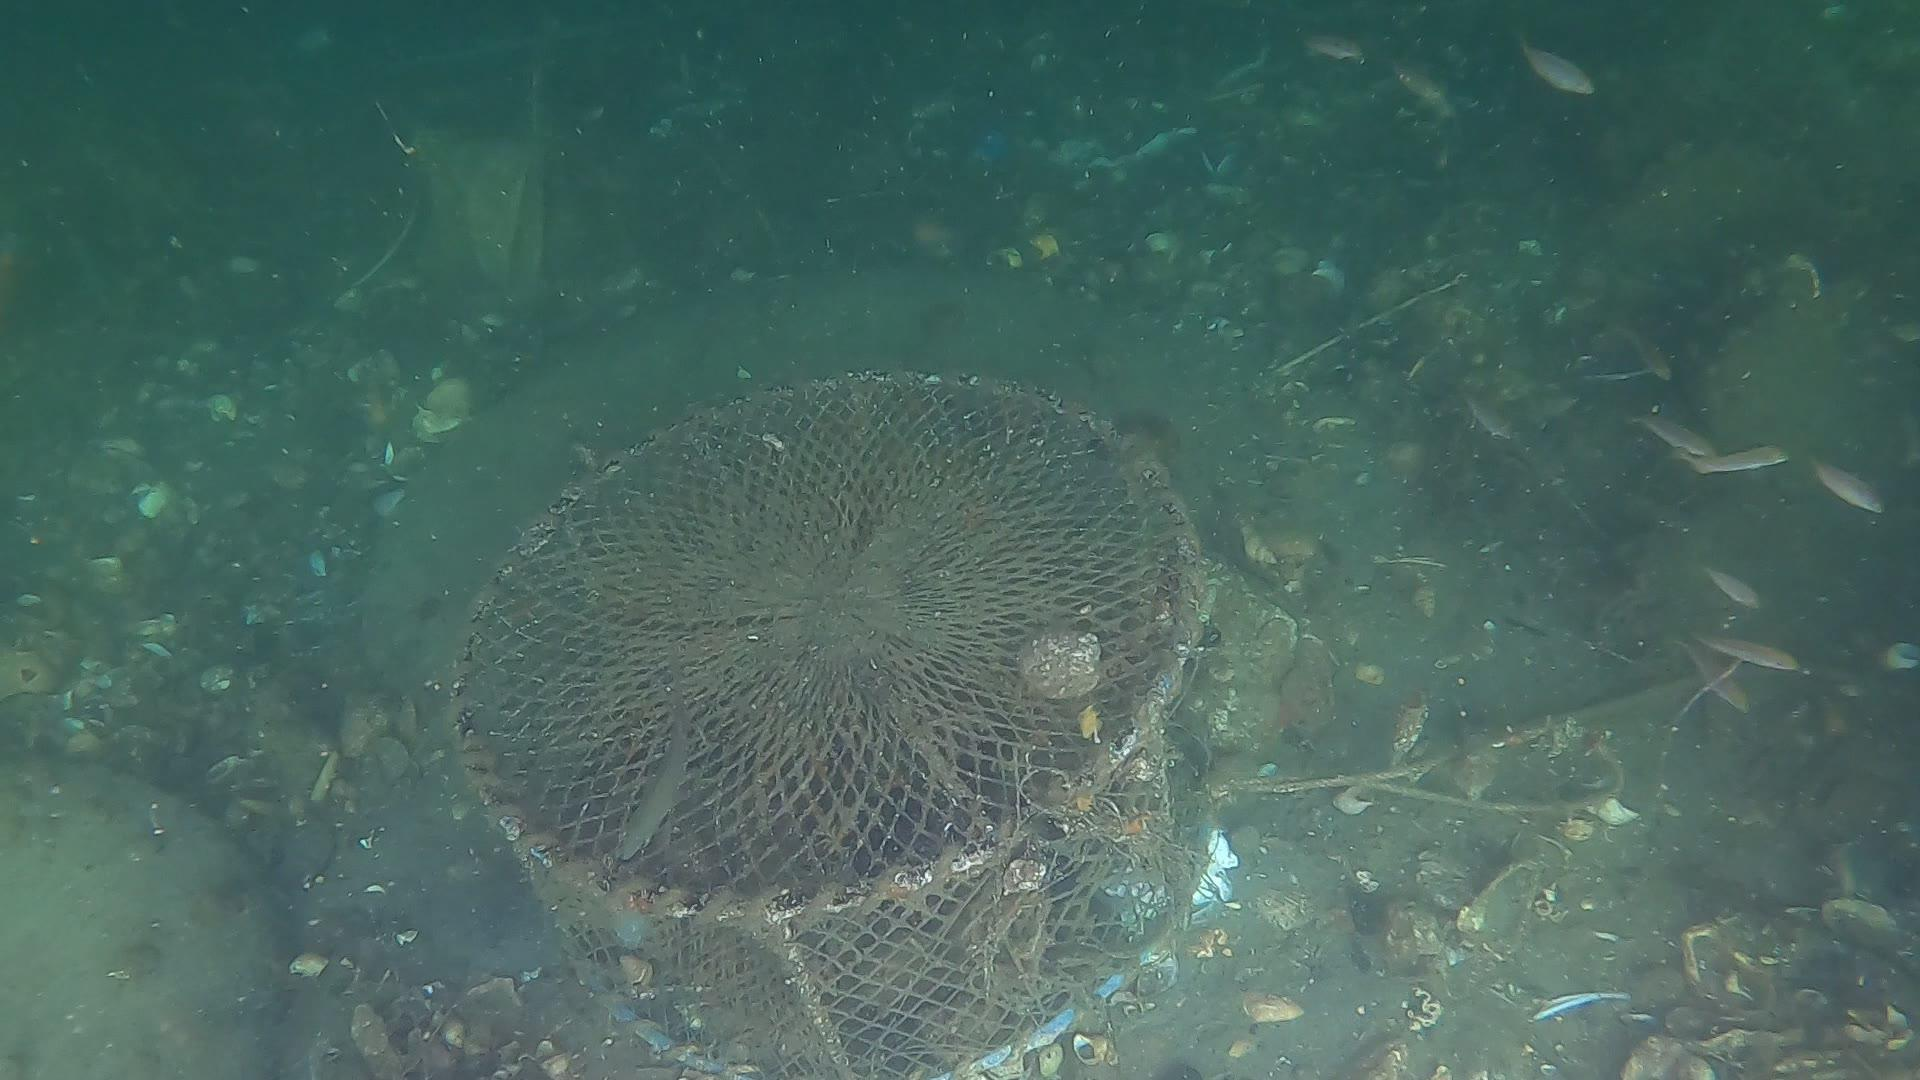circular fish trap: (433, 363, 1211, 1080)
